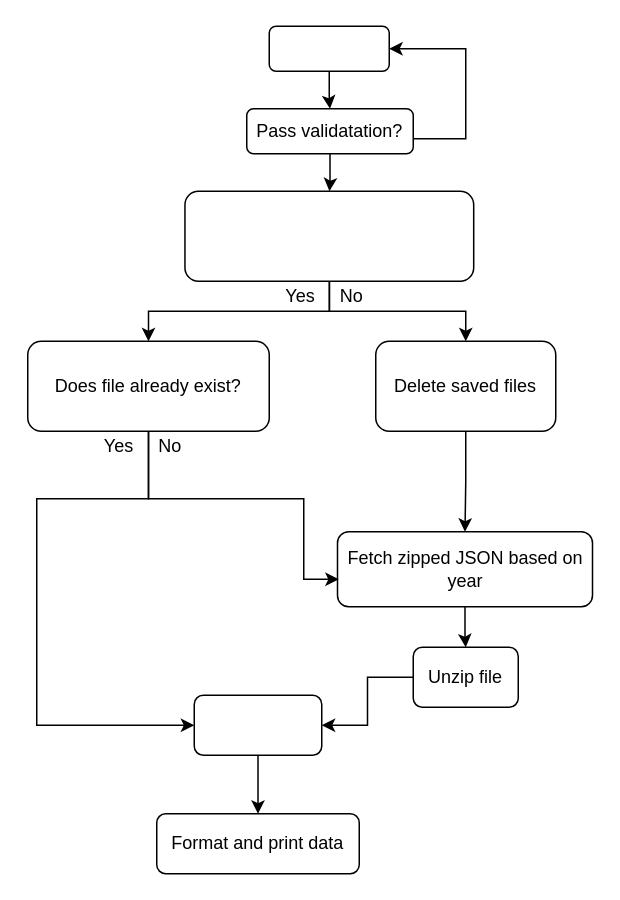
This 620x900 diagram has some shape labels left out. The shapes that lost their labels are listed below. From the top down, each one's centre as x and y in pixels, then its label:
At point (328, 48): "Get input".
At point (328, 235): "If they exist, use cached files?".
At point (257, 724): "Parse data".
